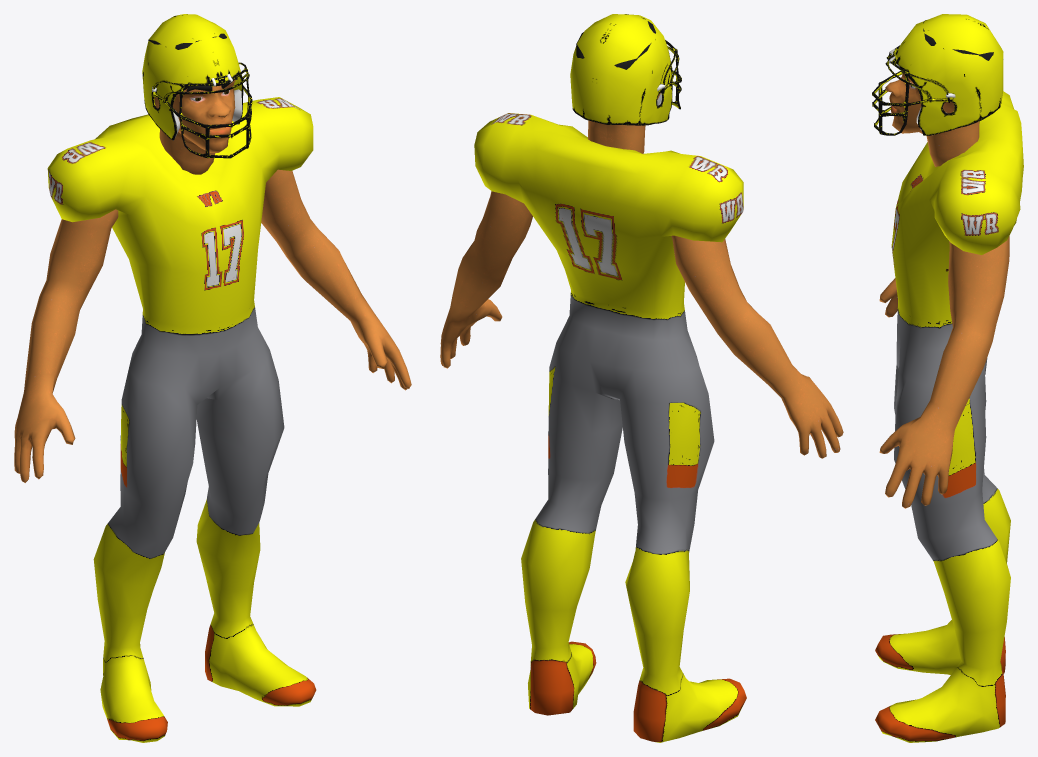
File: yellowPlayer.glb
3 views of the same model, side by side, from view 1: azimuth 30°, elevation 25°; view 2: azimuth 150°, elevation 25°; view 3: azimuth 270°, elevation 25° (orthographic).
Parts seen in each view (by area): view 1: body_low, arms_low, Helmet_low, face_low; view 2: body_low, arms_low, Helmet_low, face_low; view 3: body_low, arms_low, Helmet_low, face_low.
Part boxes in pixels (x1=…): body_low: x1=47, y1=97, x2=316, y2=742; arms_low: x1=14, y1=169, x2=411, y2=482; Helmet_low: x1=142, y1=14, x2=252, y2=158; face_low: x1=148, y1=33, x2=235, y2=174; body_low: x1=474, y1=113, x2=746, y2=742; arms_low: x1=440, y1=191, x2=843, y2=458; Helmet_low: x1=570, y1=14, x2=681, y2=125; face_low: x1=576, y1=14, x2=660, y2=153; body_low: x1=875, y1=91, x2=1023, y2=742; arms_low: x1=879, y1=236, x2=1009, y2=508; Helmet_low: x1=872, y1=14, x2=1003, y2=135; face_low: x1=885, y1=20, x2=993, y2=166.
Size of the model in its own units: 28.09 by 47.57 by 9.59.
2 materials, 2 textured.
